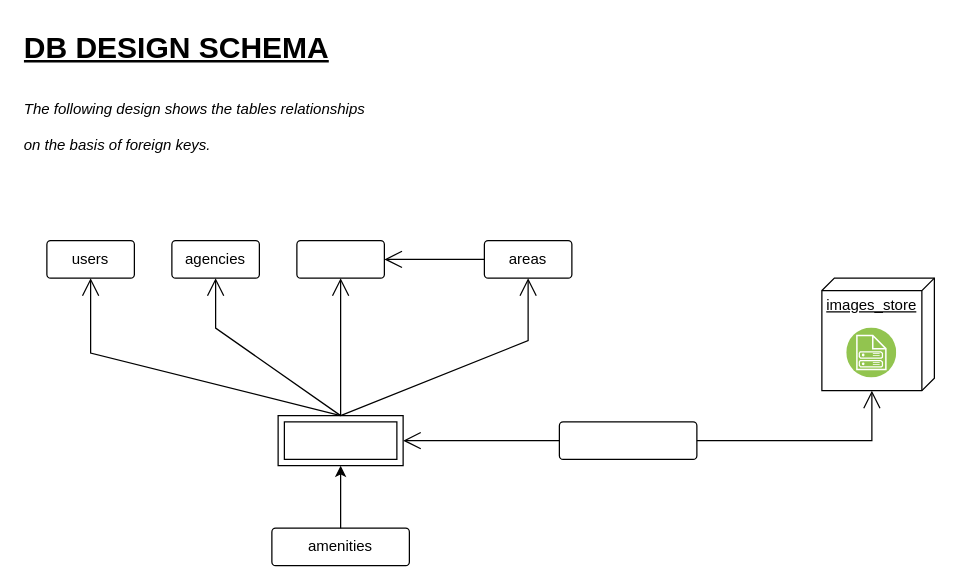
The diagram is 956 pixels wide and 588 high, and some of its shapes have lost their labels. The shapes that lost their labels are listed below. From the top down, each one's centre as x and y in pixels, then its label:
At (340,258): "cities".
At (340,440): "listings".
At (627,440): "listing_imager_url".
